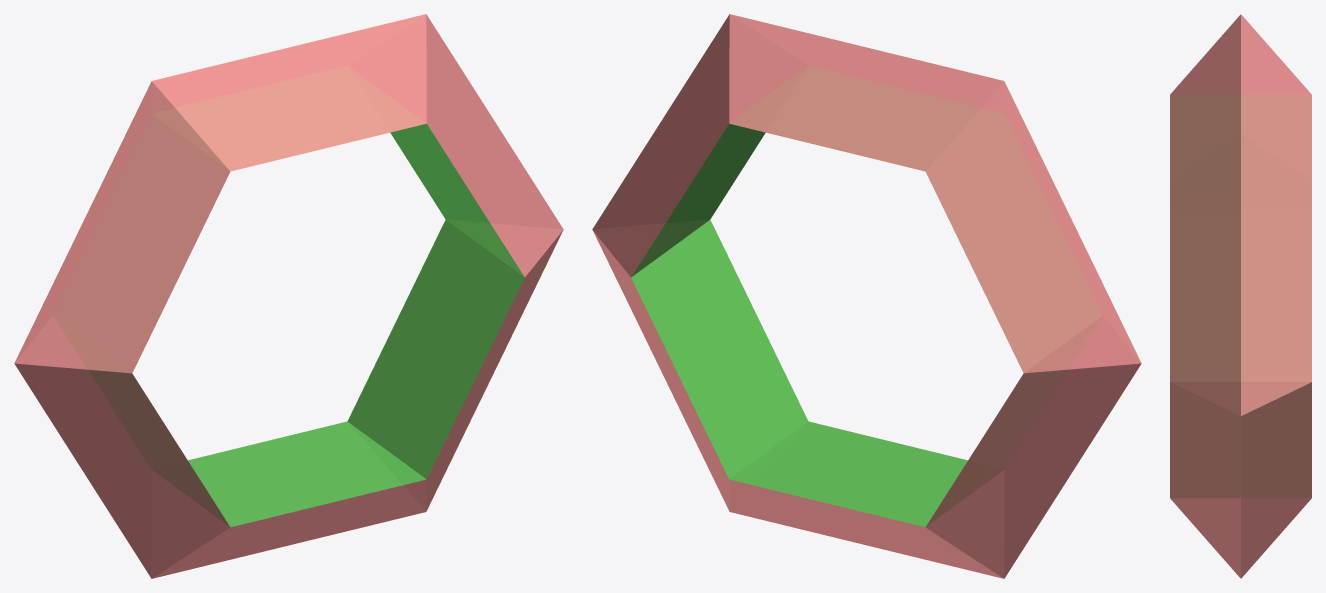
Rendered from Regular6TetragonalToroid.obj.
The picture shows the model from 3 angles, left to right: view 1: azimuth 30°, elevation 25°; view 2: azimuth 150°, elevation 25°; view 3: azimuth 270°, elevation 25°; orthographic projection. The views are drawn at different scales.
Size of the model in its own units: 2.8 by 2.42 by 0.7.
